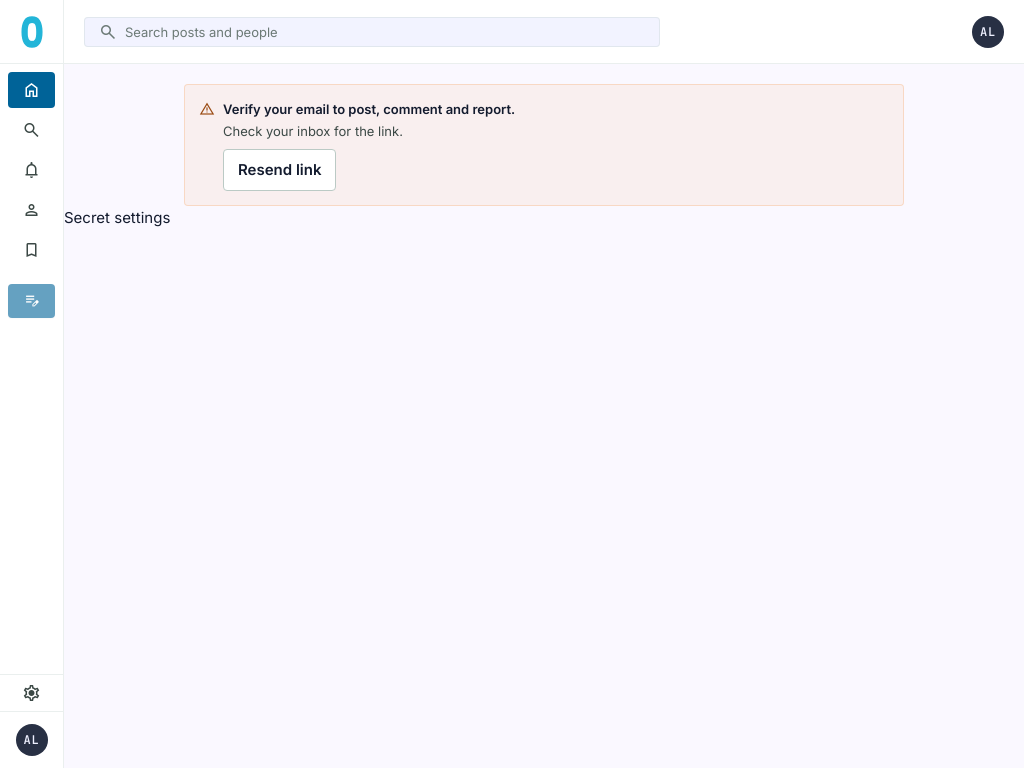
it: (app) layout, unverified email › resends from the banner, answers with a toast and starts the countdown
What coordinates should you click on to do the following:
click the button "Resend link"
I would click on:
 (280, 170)
Its box is left=223, top=149, right=336, bottom=191.
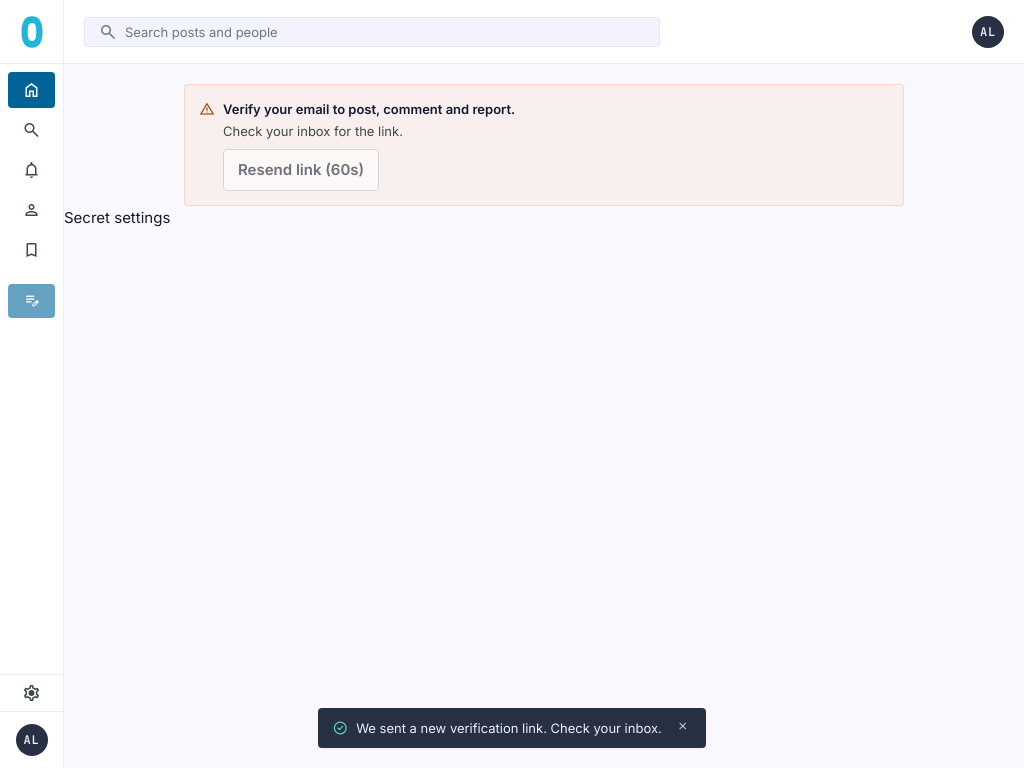
Check: the text "We sent a new verification link. Check your inbox." is shown, box left=356, top=718, right=662, bottom=738
Check: the button "Resend link (60s)" is disabled, box left=223, top=149, right=379, bottom=191
